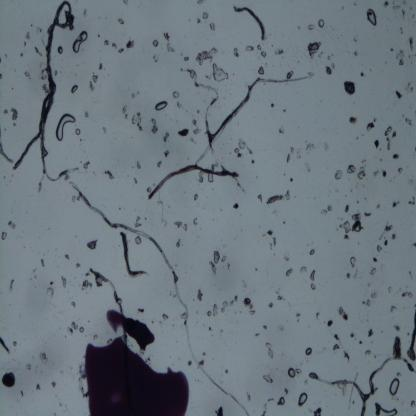Air bubble: (55, 113, 75, 143), (374, 400, 400, 416), (72, 29, 88, 54), (365, 5, 377, 28), (388, 377, 399, 397), (154, 99, 169, 112), (297, 392, 308, 406), (288, 365, 298, 380), (212, 249, 221, 265), (207, 172, 215, 184), (278, 396, 286, 405), (57, 46, 64, 54), (305, 348, 312, 356), (72, 84, 78, 93)
Background material: (196, 46, 218, 66), (221, 294, 240, 314), (157, 190, 167, 227), (306, 41, 326, 59), (211, 63, 229, 83), (0, 369, 18, 389), (350, 215, 364, 237), (131, 112, 144, 133), (266, 193, 286, 206), (384, 124, 393, 151), (243, 298, 255, 318), (343, 80, 357, 97), (395, 48, 406, 68), (0, 337, 12, 355), (393, 336, 403, 356), (285, 146, 295, 166), (305, 140, 321, 152), (176, 125, 190, 138), (405, 77, 416, 93), (86, 237, 98, 251), (265, 342, 274, 360), (150, 115, 158, 135), (208, 262, 218, 278), (333, 169, 345, 182), (212, 403, 224, 416), (165, 41, 177, 54), (39, 350, 48, 367), (82, 278, 92, 293), (339, 306, 348, 322), (262, 372, 274, 384), (232, 146, 243, 159), (407, 36, 416, 51), (298, 262, 309, 274), (320, 204, 332, 215), (382, 223, 395, 233), (358, 166, 366, 182), (40, 62, 47, 80), (368, 288, 378, 300), (103, 170, 115, 180), (6, 218, 16, 230), (342, 220, 350, 235), (172, 238, 182, 250), (7, 277, 14, 294), (134, 215, 143, 228), (162, 130, 170, 144), (121, 106, 129, 120), (272, 48, 286, 56), (366, 120, 374, 134), (61, 275, 68, 291), (196, 172, 206, 183), (402, 290, 413, 300), (126, 39, 136, 50), (232, 47, 242, 58), (46, 286, 55, 298), (341, 350, 350, 362), (82, 159, 91, 171), (407, 194, 416, 206), (132, 235, 144, 244), (151, 38, 160, 50), (324, 65, 333, 77), (212, 304, 220, 317), (354, 267, 362, 280), (304, 161, 312, 174), (309, 268, 317, 281), (394, 90, 404, 100), (387, 302, 397, 312), (71, 193, 81, 203), (116, 16, 126, 26), (65, 325, 74, 336), (284, 267, 293, 278), (295, 310, 304, 321), (274, 323, 285, 332), (11, 108, 18, 122), (238, 138, 246, 150), (408, 52, 416, 64), (74, 124, 82, 136), (281, 382, 289, 394), (90, 73, 99, 83), (200, 12, 210, 21), (363, 348, 373, 357), (361, 298, 371, 307), (347, 165, 356, 175), (24, 360, 33, 370), (161, 312, 170, 322), (392, 1, 402, 10), (404, 118, 414, 127), (197, 287, 203, 302), (391, 200, 402, 208), (87, 81, 95, 92), (152, 53, 160, 64), (312, 406, 323, 414), (256, 192, 264, 203), (370, 266, 378, 277), (266, 227, 274, 238), (245, 390, 252, 402), (349, 256, 356, 268), (367, 327, 374, 339), (258, 65, 265, 77), (349, 116, 358, 125), (134, 160, 142, 170), (326, 318, 334, 328), (220, 252, 228, 262), (68, 300, 76, 310), (286, 70, 294, 80), (42, 81, 48, 94), (402, 9, 408, 22), (297, 147, 303, 160), (286, 189, 292, 202), (72, 320, 79, 331), (343, 204, 350, 215), (209, 20, 216, 31), (244, 45, 255, 52), (392, 152, 401, 160), (163, 32, 171, 41), (176, 102, 184, 111), (363, 210, 372, 218), (194, 127, 203, 135), (332, 344, 341, 352), (373, 171, 382, 179), (308, 247, 316, 256), (163, 150, 171, 159), (317, 20, 325, 29), (382, 1, 391, 9), (1, 231, 7, 243), (273, 236, 278, 250), (38, 180, 43, 194), (374, 139, 380, 150), (78, 324, 84, 335), (155, 160, 163, 168), (118, 46, 126, 54), (247, 146, 255, 154), (376, 245, 383, 254), (192, 217, 199, 226), (173, 90, 180, 99), (104, 38, 110, 48), (334, 332, 340, 342), (36, 46, 42, 56), (183, 222, 188, 234), (84, 110, 90, 120), (352, 35, 358, 45), (260, 50, 267, 58), (233, 202, 240, 210), (278, 128, 285, 136), (307, 24, 315, 31), (174, 220, 182, 227), (195, 16, 202, 24), (276, 294, 283, 302), (379, 232, 386, 240), (83, 7, 88, 18), (101, 126, 107, 135), (35, 383, 41, 392), (192, 193, 198, 202), (268, 300, 274, 309), (243, 280, 249, 289), (197, 0, 206, 6), (26, 31, 31, 41), (411, 238, 416, 248), (206, 308, 211, 318), (191, 117, 196, 127), (113, 42, 118, 52), (395, 325, 402, 332), (139, 306, 146, 313), (310, 283, 317, 290), (146, 186, 152, 194), (256, 45, 264, 51), (314, 311, 320, 319), (346, 272, 352, 280), (409, 179, 415, 187), (324, 144, 330, 152), (12, 340, 18, 348), (40, 260, 46, 268), (391, 232, 397, 240), (132, 178, 140, 184), (64, 252, 70, 260), (205, 72, 211, 80), (383, 240, 389, 248), (98, 63, 103, 72), (37, 26, 42, 35), (410, 401, 416, 408), (402, 0, 409, 6), (371, 256, 378, 262), (383, 170, 388, 178), (130, 92, 135, 100), (182, 56, 190, 61), (52, 380, 57, 388), (51, 408, 56, 416), (82, 272, 90, 277), (412, 12, 416, 22), (307, 71, 315, 76), (74, 262, 80, 268), (199, 360, 205, 366), (284, 256, 290, 262), (218, 328, 224, 334), (262, 325, 268, 331), (53, 70, 59, 76), (48, 280, 54, 286), (254, 331, 260, 337), (46, 224, 51, 231), (393, 131, 398, 138), (4, 108, 9, 115), (325, 55, 332, 60), (400, 27, 404, 35), (26, 70, 30, 78), (268, 242, 272, 250), (19, 50, 24, 56), (58, 402, 63, 408), (207, 324, 212, 330), (349, 332, 354, 338), (93, 335, 98, 341), (344, 235, 350, 240), (387, 286, 392, 292), (399, 167, 403, 174), (187, 361, 192, 366), (363, 196, 368, 201), (172, 293, 176, 299), (358, 339, 362, 345), (362, 160, 368, 164), (352, 0, 356, 6), (228, 262, 231, 270), (224, 368, 228, 374), (338, 223, 342, 229), (353, 50, 357, 56), (298, 26, 302, 32), (136, 90, 140, 96), (202, 350, 206, 356), (124, 0, 128, 6), (21, 389, 24, 397), (377, 204, 381, 210), (23, 40, 26, 47), (389, 47, 394, 51), (270, 103, 274, 108), (251, 159, 255, 164), (360, 72, 364, 77), (0, 55, 2, 64), (0, 74, 3, 80), (290, 178, 294, 182), (262, 233, 266, 237), (283, 108, 287, 112), (320, 99, 324, 103), (30, 23, 33, 28), (118, 206, 121, 211), (350, 188, 353, 193), (356, 136, 359, 141), (33, 268, 36, 273), (144, 216, 147, 221), (282, 221, 285, 226), (4, 53, 7, 58), (410, 7, 413, 11), (97, 34, 100, 38), (13, 123, 16, 127), (197, 110, 200, 114), (108, 72, 110, 77), (360, 134, 365, 136), (336, 189, 338, 194), (342, 6, 344, 10), (357, 200, 359, 204), (284, 172, 286, 176), (254, 268, 258, 270), (415, 145, 416, 152), (380, 160, 382, 162)
Cellulose filter fibre: (67, 180, 250, 416), (14, 1, 81, 181), (193, 74, 310, 167), (305, 352, 416, 415), (146, 165, 243, 202), (184, 67, 220, 141), (88, 265, 126, 311), (117, 232, 149, 280), (231, 3, 266, 42), (407, 302, 416, 360), (0, 143, 15, 166), (260, 395, 276, 415)
Pen: (82, 334, 192, 414), (104, 307, 156, 348)
